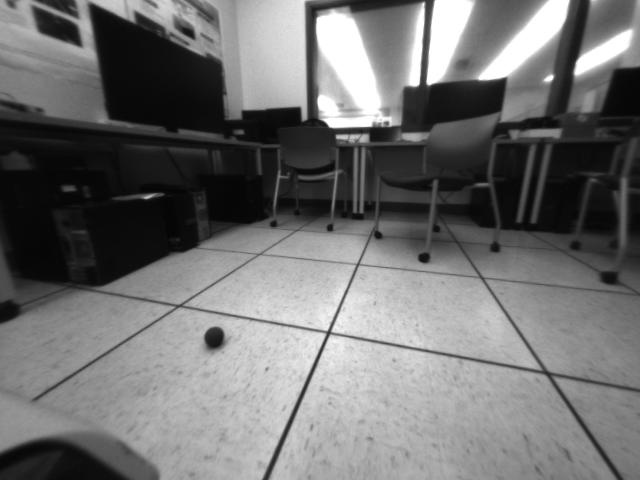dogtoy: (199, 319, 232, 353)
